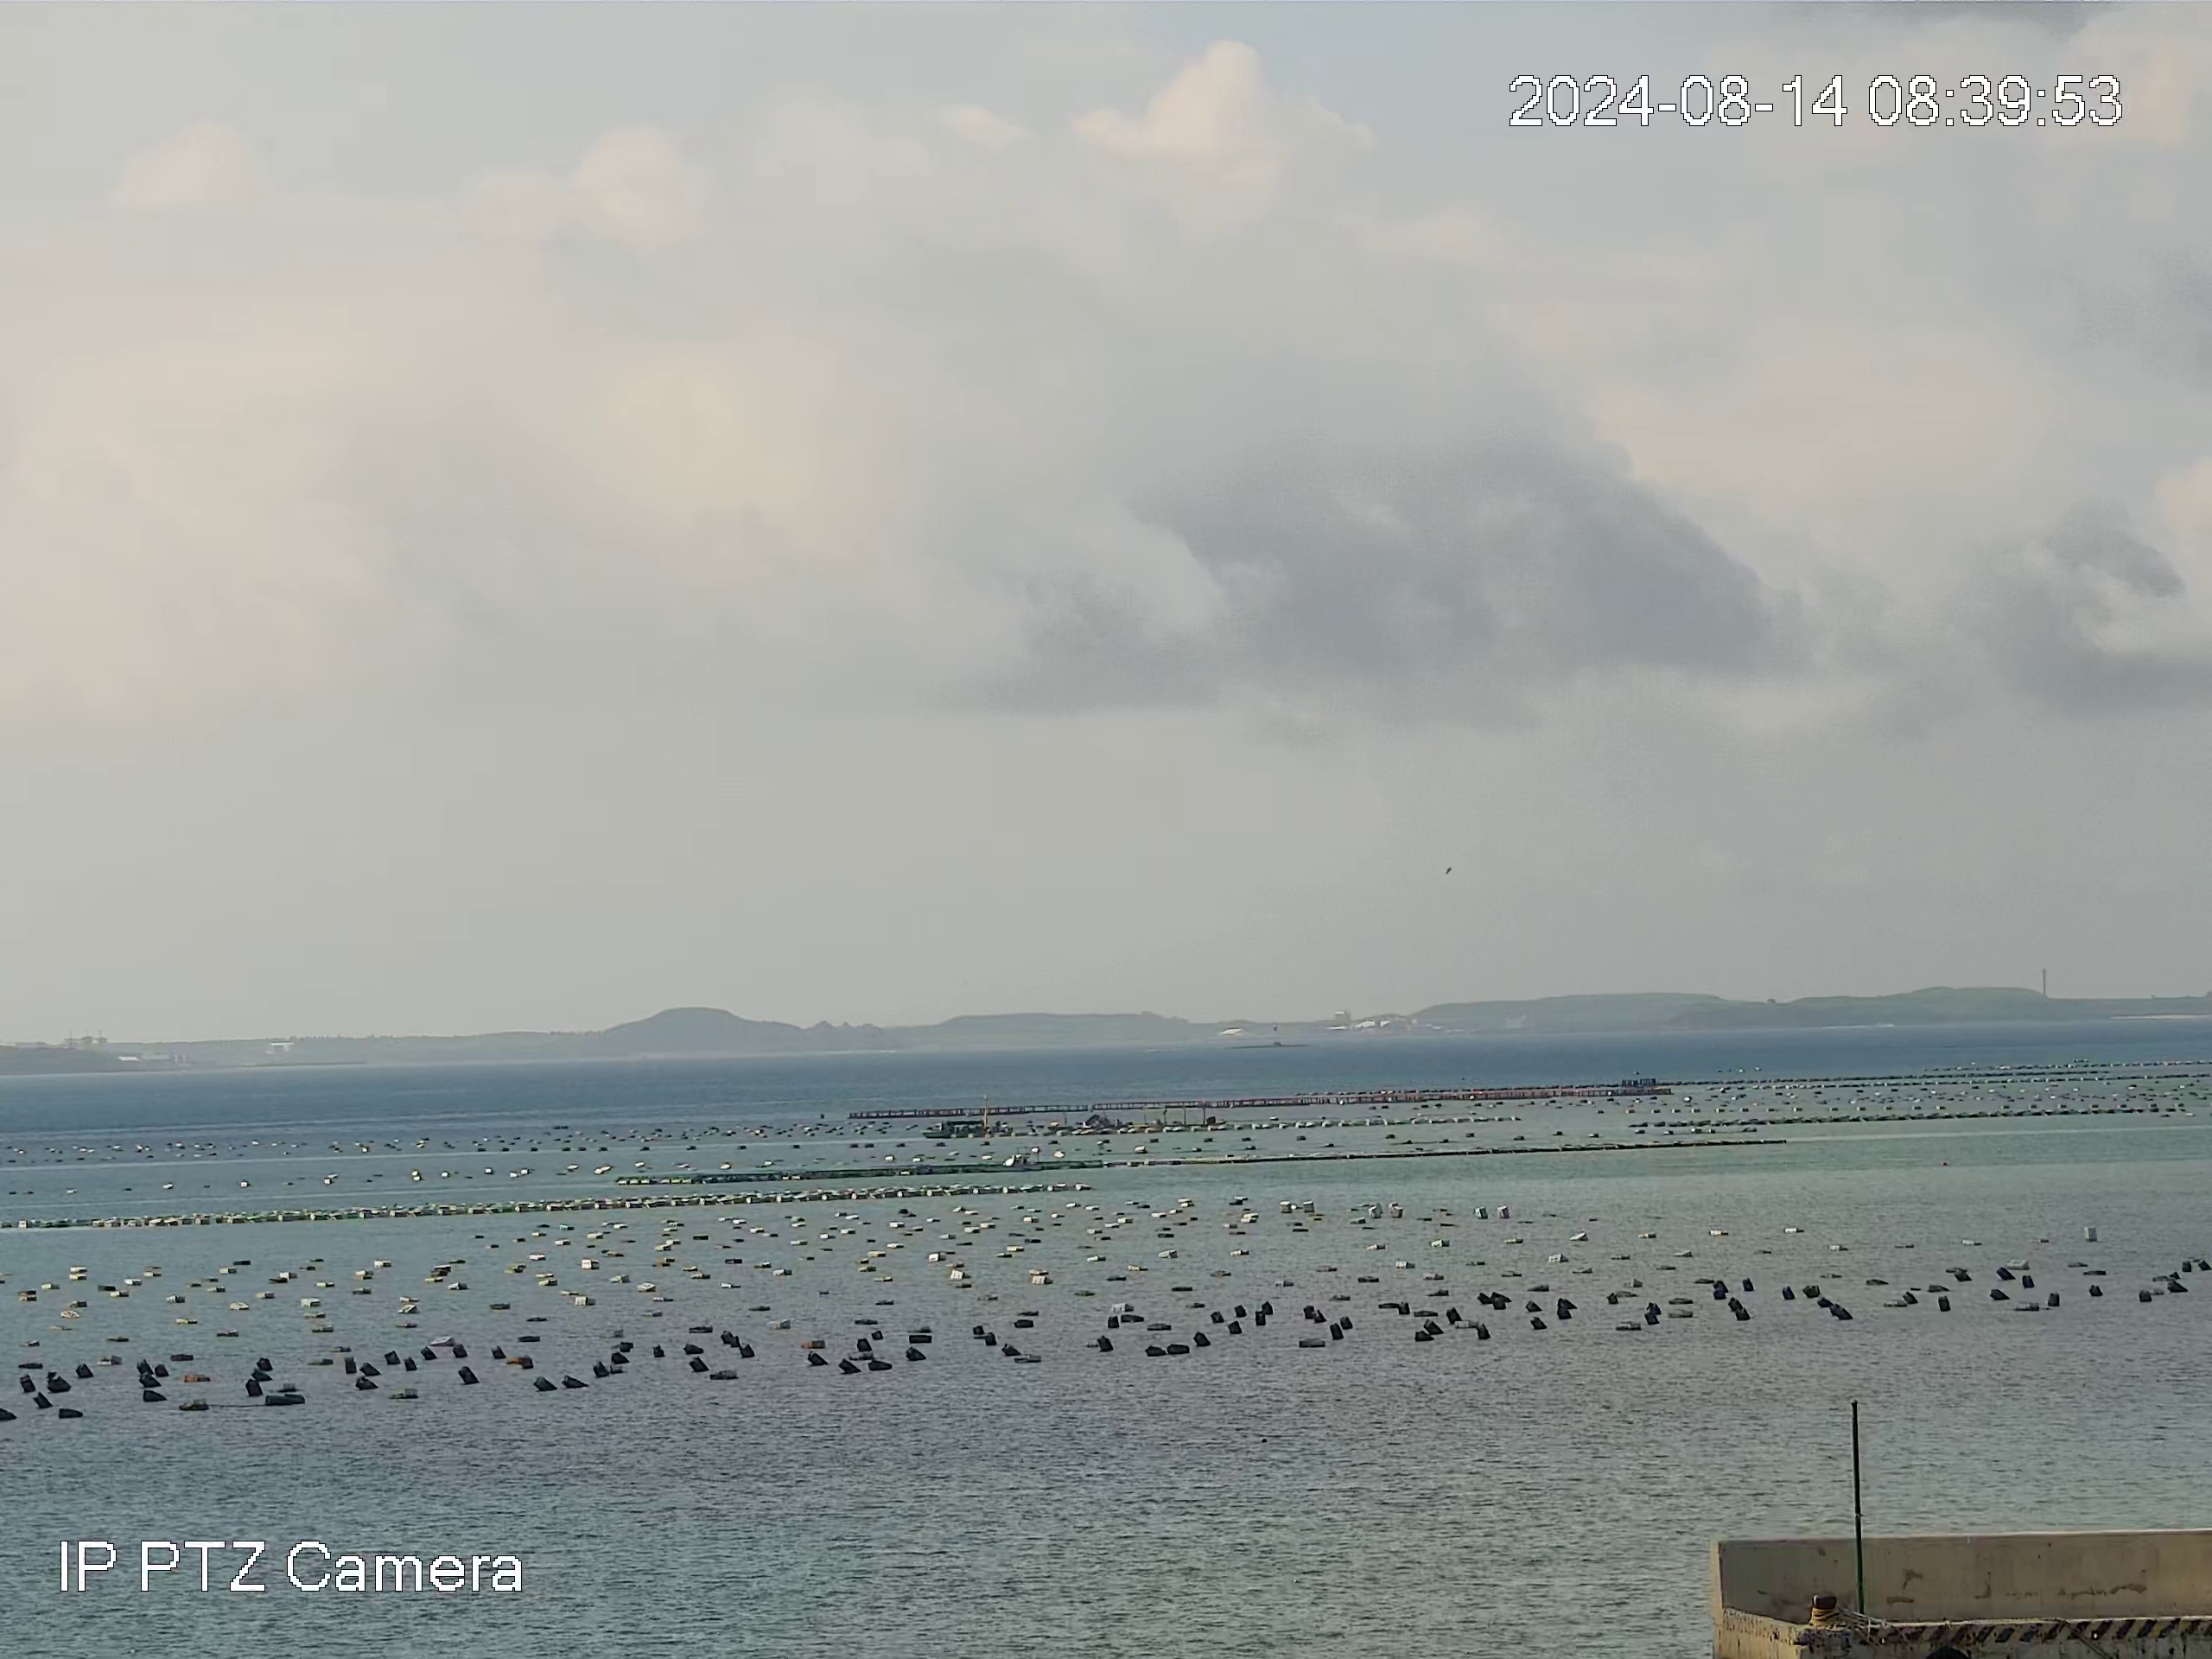boat: (923, 1117, 989, 1143)
